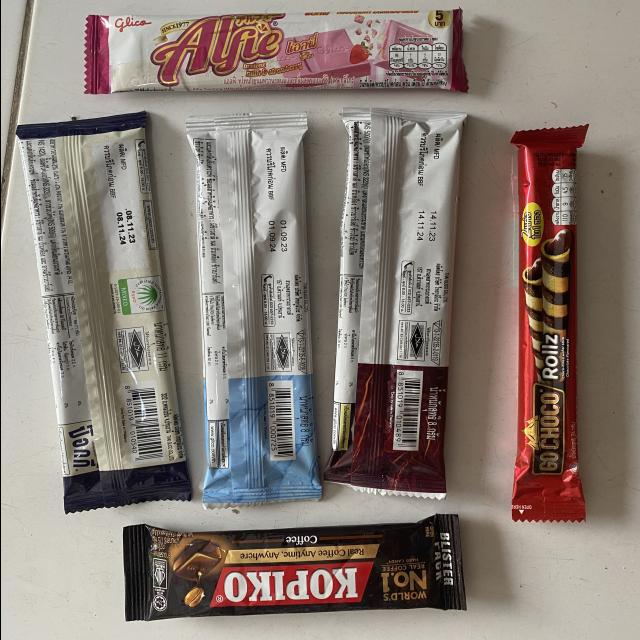plastik: (17, 113, 189, 512), (325, 108, 464, 496), (186, 113, 320, 505), (123, 515, 465, 621), (84, 9, 467, 94), (512, 126, 587, 521)
